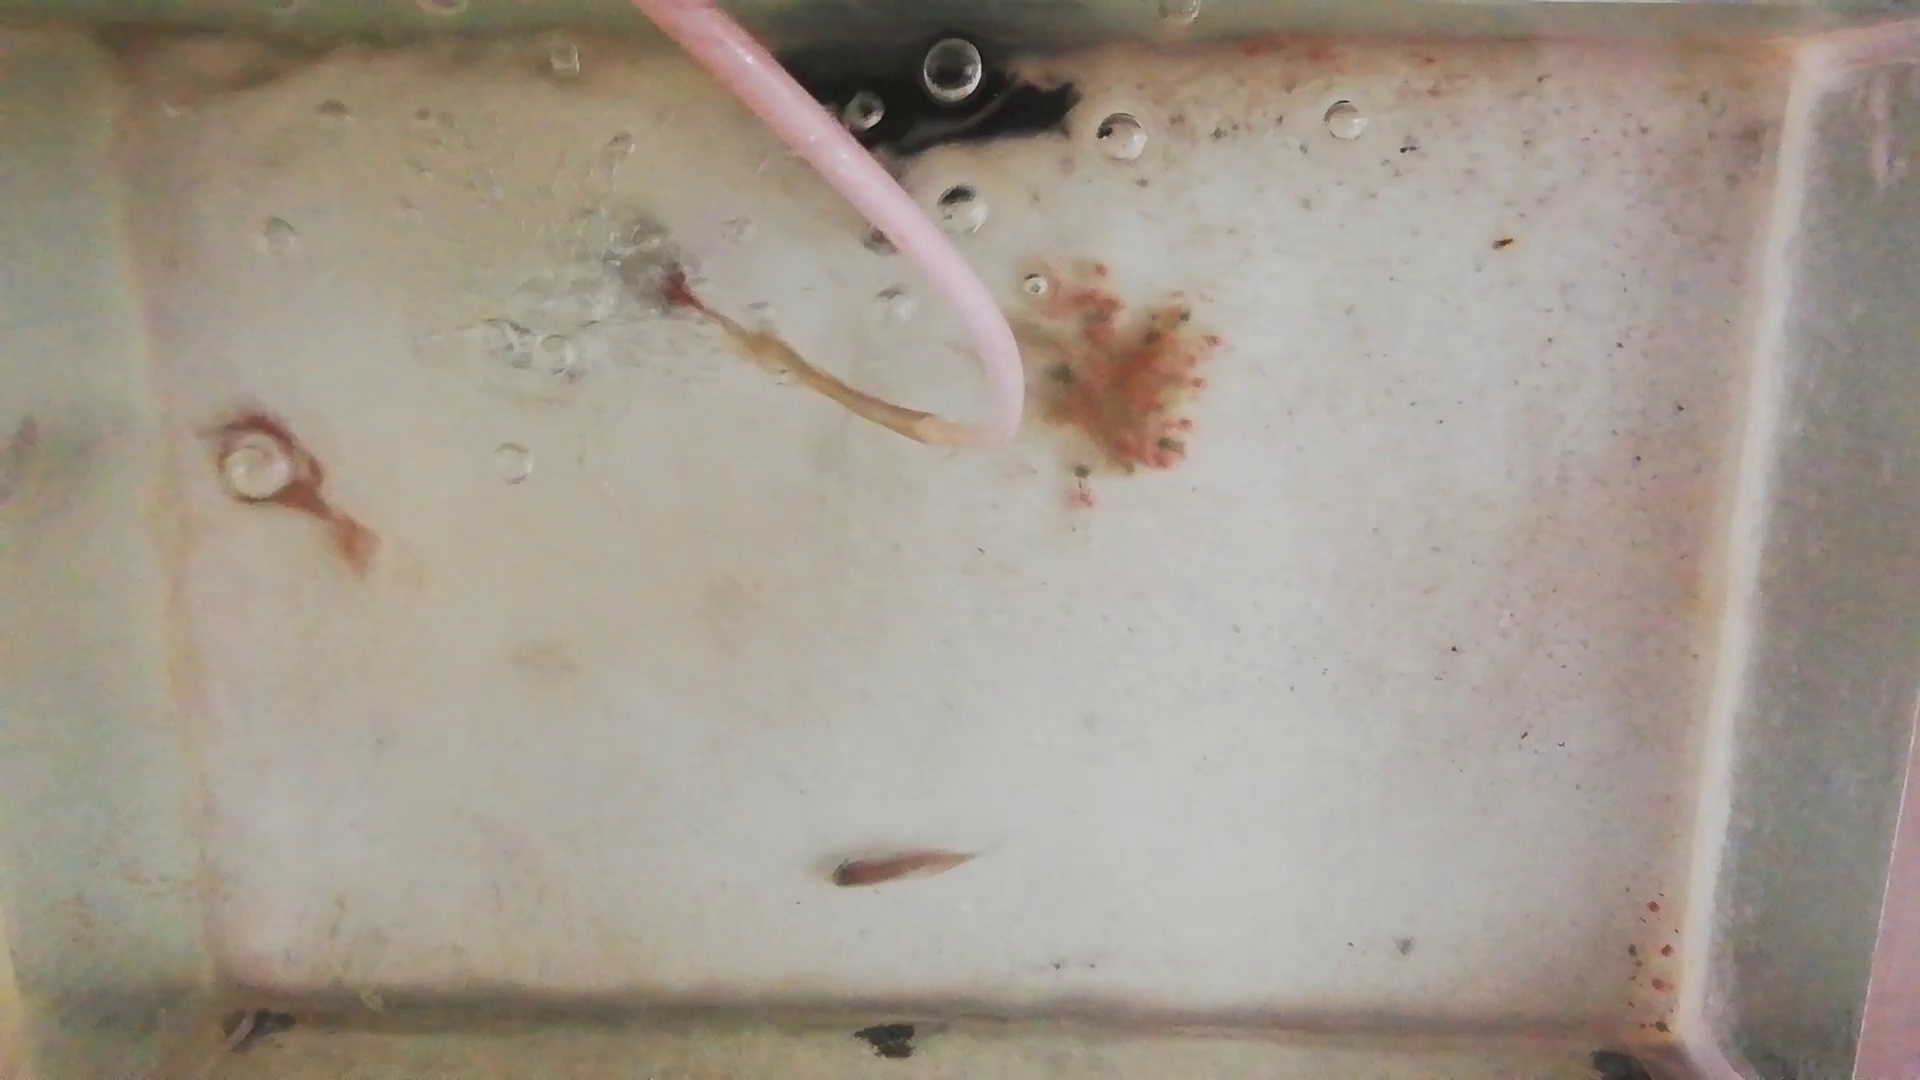fish: (211, 407, 372, 563), (824, 848, 971, 882)
